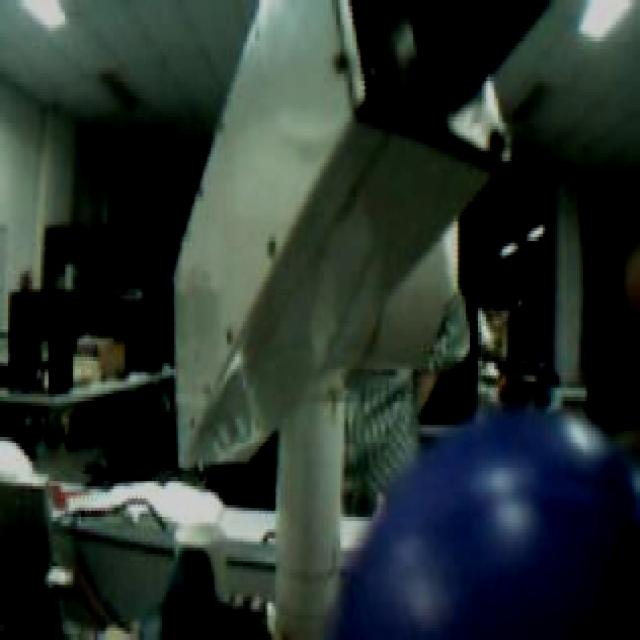BallPurple: (346, 408, 640, 639)
